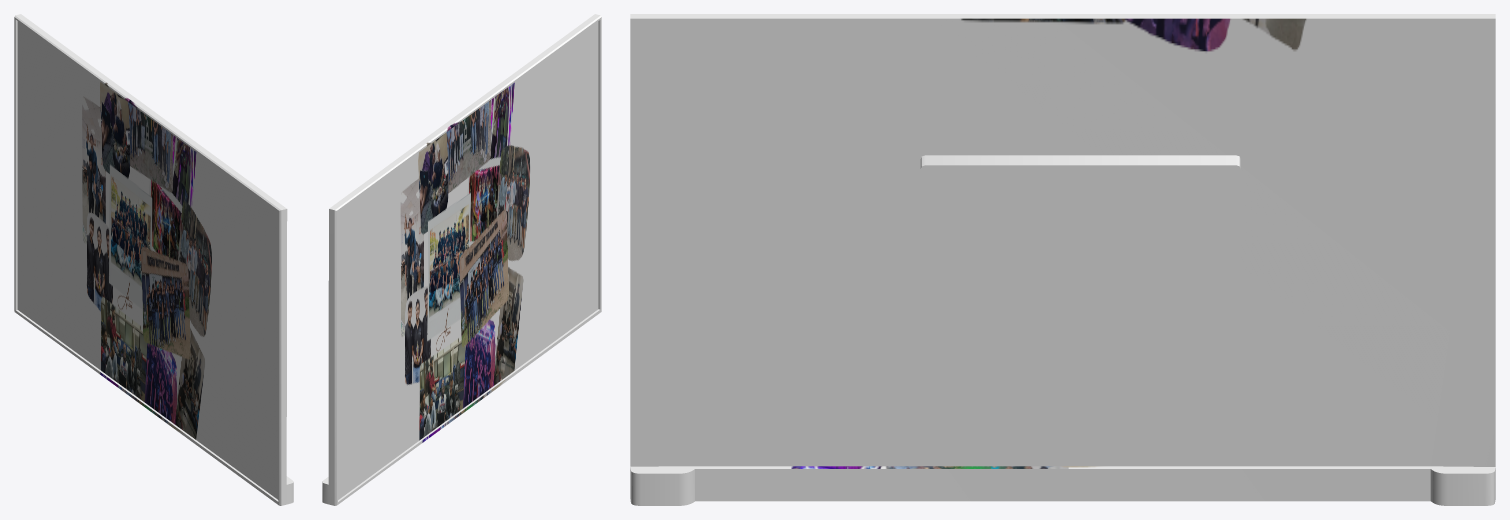
File: aws_TV_01_visual.DAE
The picture shows the model from 3 angles, left to right: view 1: azimuth 30°, elevation 25°; view 2: azimuth 150°, elevation 25°; view 3: azimuth 270°, elevation 25°; orthographic projection. The views are drawn at different scales.
Parts seen in each view (by area): view 1: aws_TV_01_visual; view 2: aws_TV_01_visual; view 3: aws_TV_01_visual.
Boxes of the visible parts, bbox=[...] form: aws_TV_01_visual: bbox=[14, 14, 293, 505]; aws_TV_01_visual: bbox=[322, 14, 601, 505]; aws_TV_01_visual: bbox=[630, 14, 1495, 505].
Size of the model in its own units: 5.5 by 130 by 79.54.
1 material, 1 textured.
